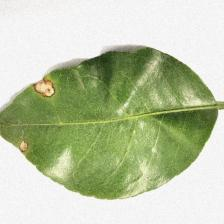canker: (10, 74, 58, 152)
